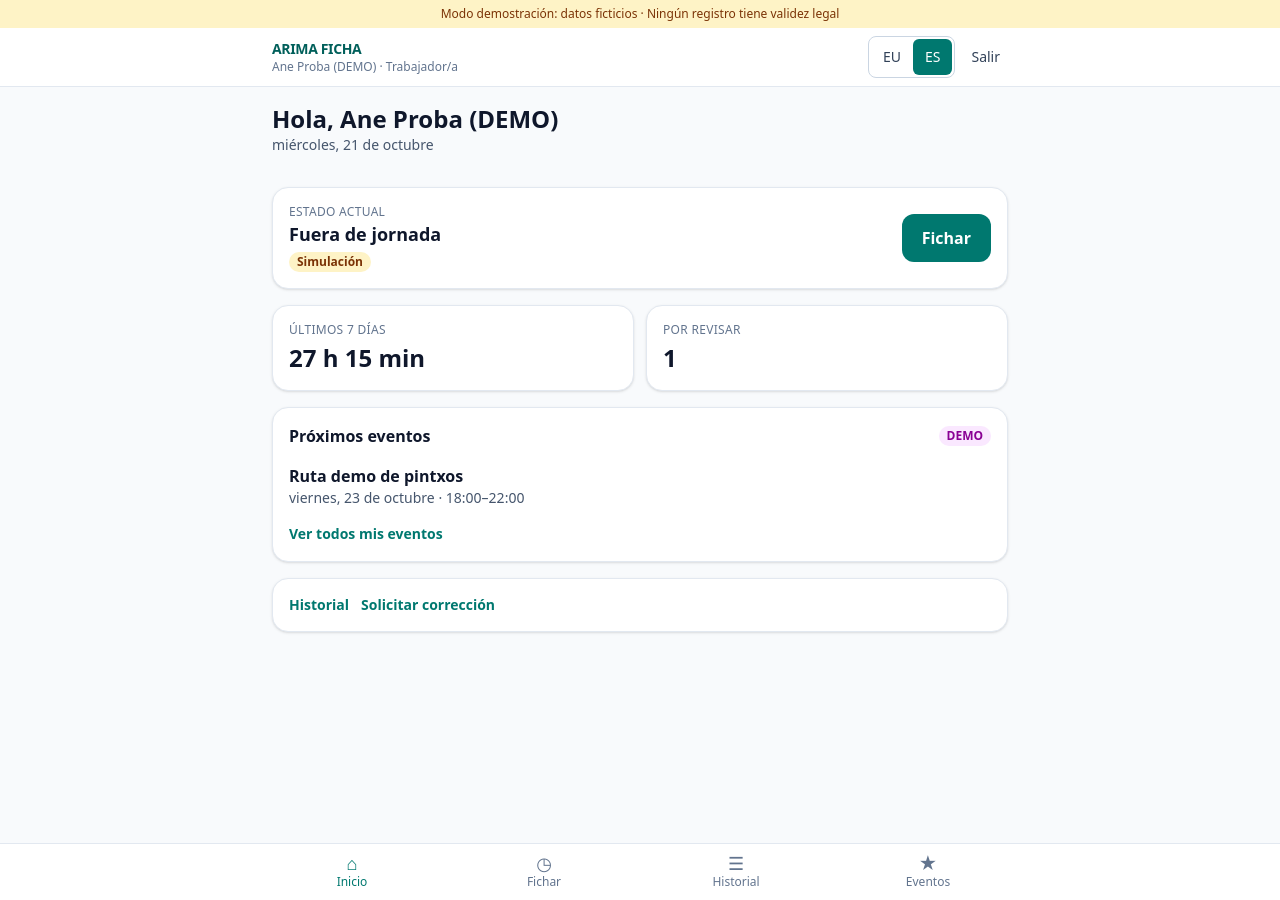
it: idiomas › cambia a euskera desde la interfaz
The width and height of the screenshot is (1280, 900).
Expected: the link "Historial" is shown, x1=289 y1=595 x2=349 y2=615
Click the button "EU": (892, 57) x1=871 y1=39 x2=913 y2=75
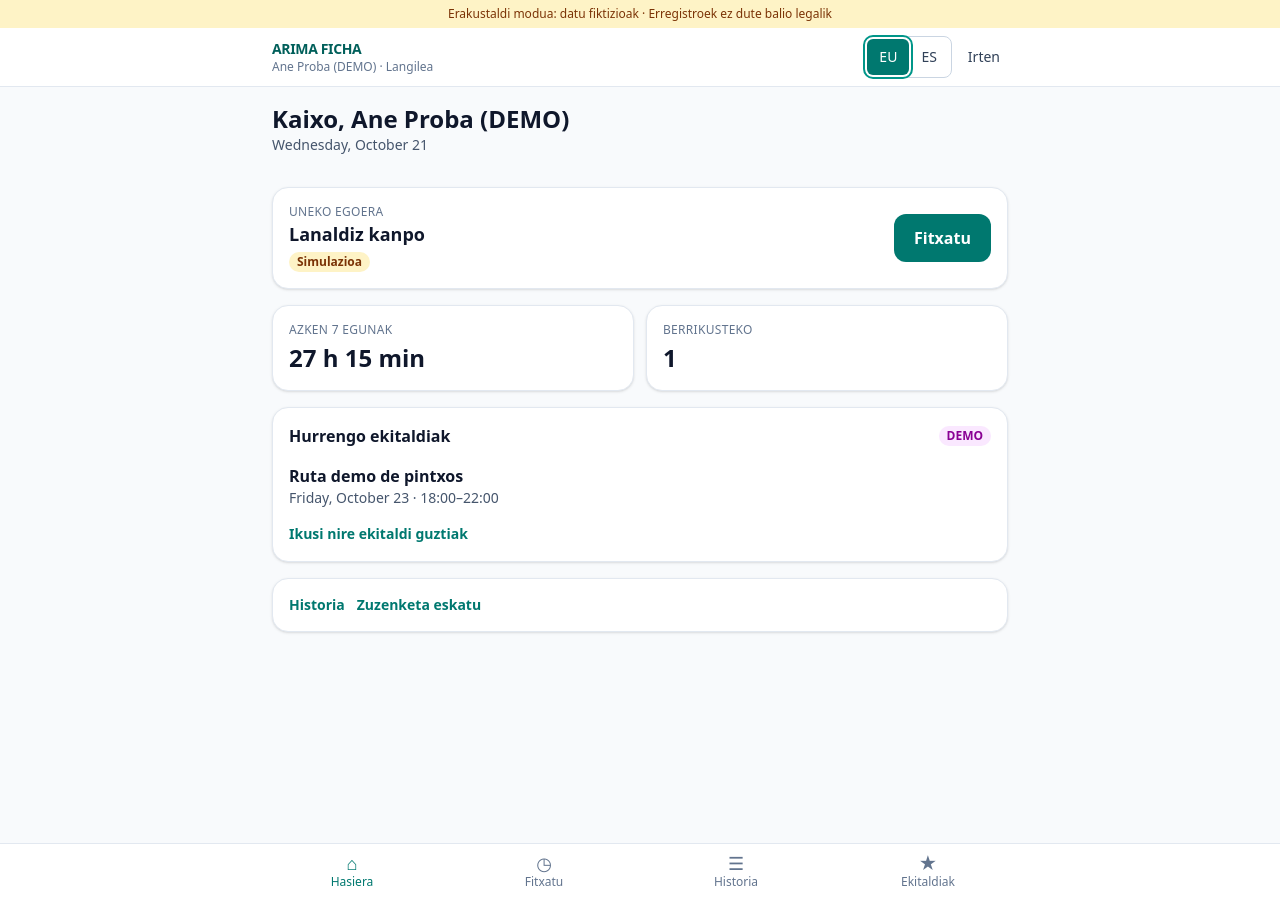
Expected: the link "Historia" is shown, x1=289 y1=595 x2=345 y2=615
Expected: no links "Historial" are shown
